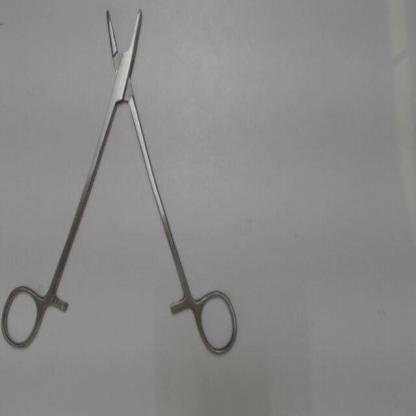8 Mayo Needle Holder: (0, 1, 244, 363)
